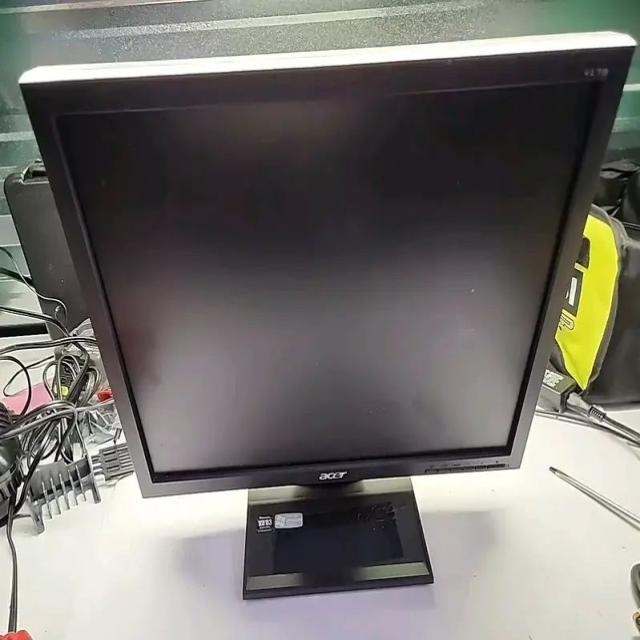electronic: (13, 30, 635, 599)
